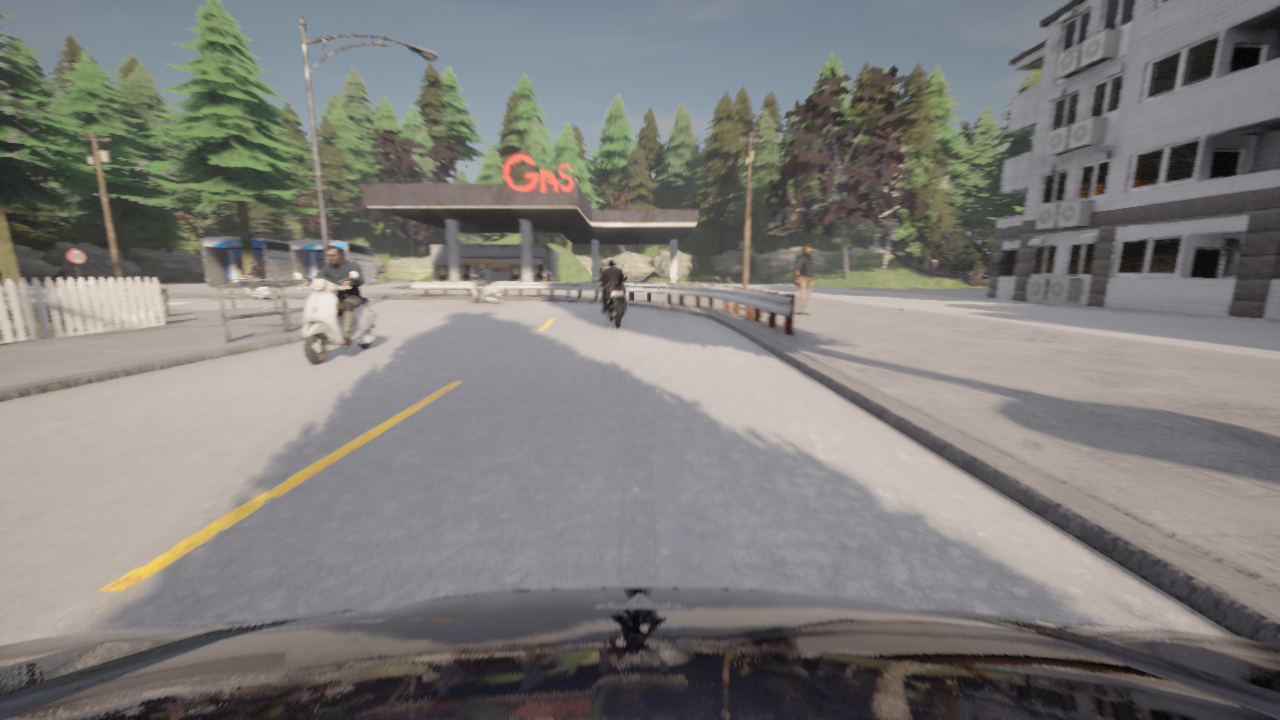cyclist: (0, 588, 1279, 719), (294, 271, 376, 364), (594, 277, 626, 329), (470, 274, 501, 304), (233, 281, 273, 301), (509, 269, 553, 281)
pedestrian: (795, 244, 814, 315)
